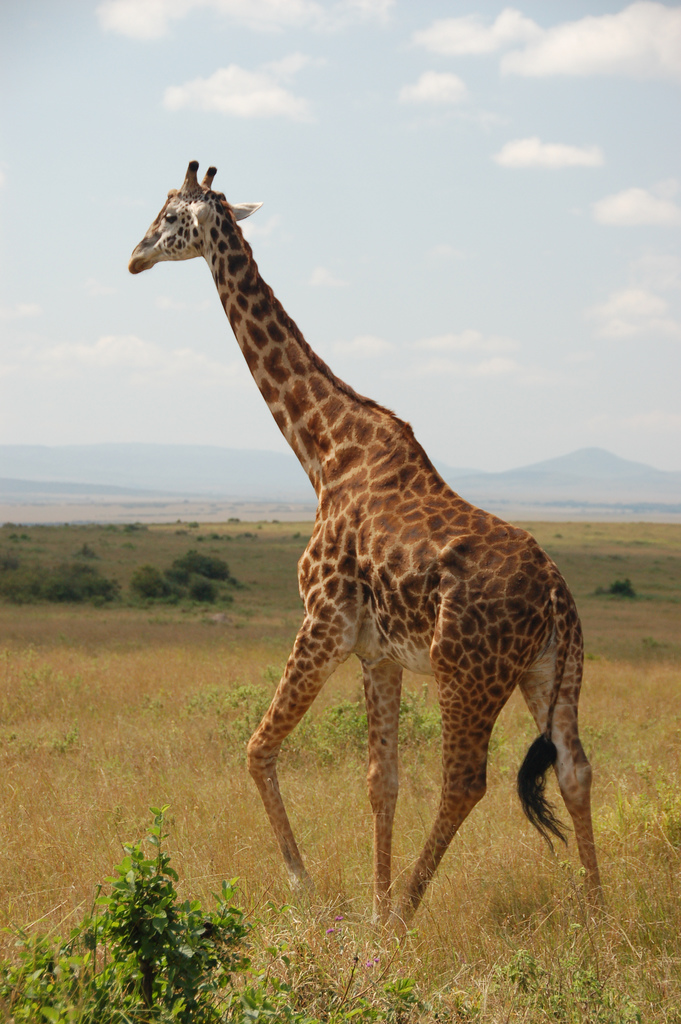giraffe: (106, 181, 631, 937)
